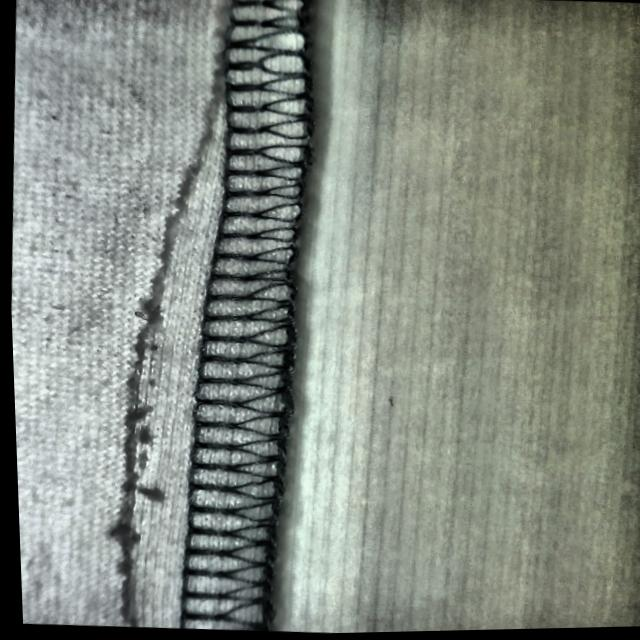seam: (69, 83, 324, 637)
